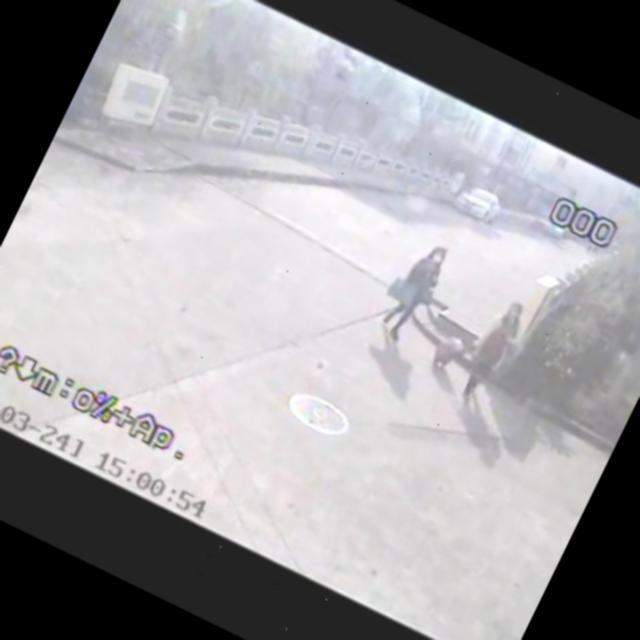person: (365, 234, 461, 360), (450, 290, 535, 410)
